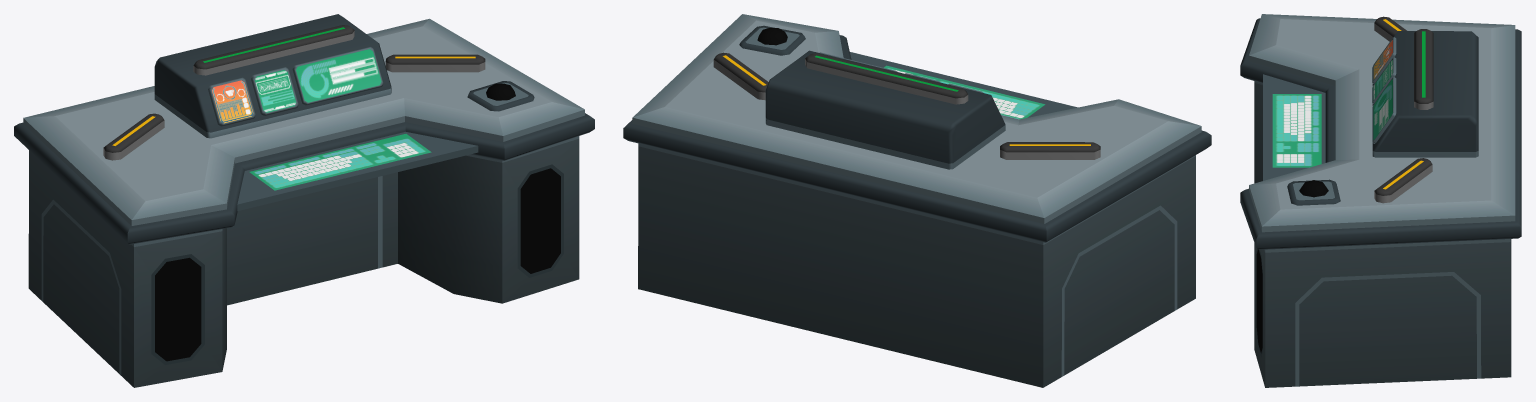
File: Terminal_016.fbx
The picture shows the model from 3 angles, left to right: view 1: azimuth 30°, elevation 25°; view 2: azimuth 150°, elevation 25°; view 3: azimuth 270°, elevation 25°; orthographic projection. The views are drawn at different scales.
Visible parts, largest first — view 1: Terminal_016; view 2: Terminal_016; view 3: Terminal_016.
Boxes of the visible parts, <box> form: Terminal_016: <box>14,14,594,387</box>; Terminal_016: <box>623,14,1211,387</box>; Terminal_016: <box>1240,14,1521,387</box>.
Size of the model in its own units: 215 by 117 by 100.
